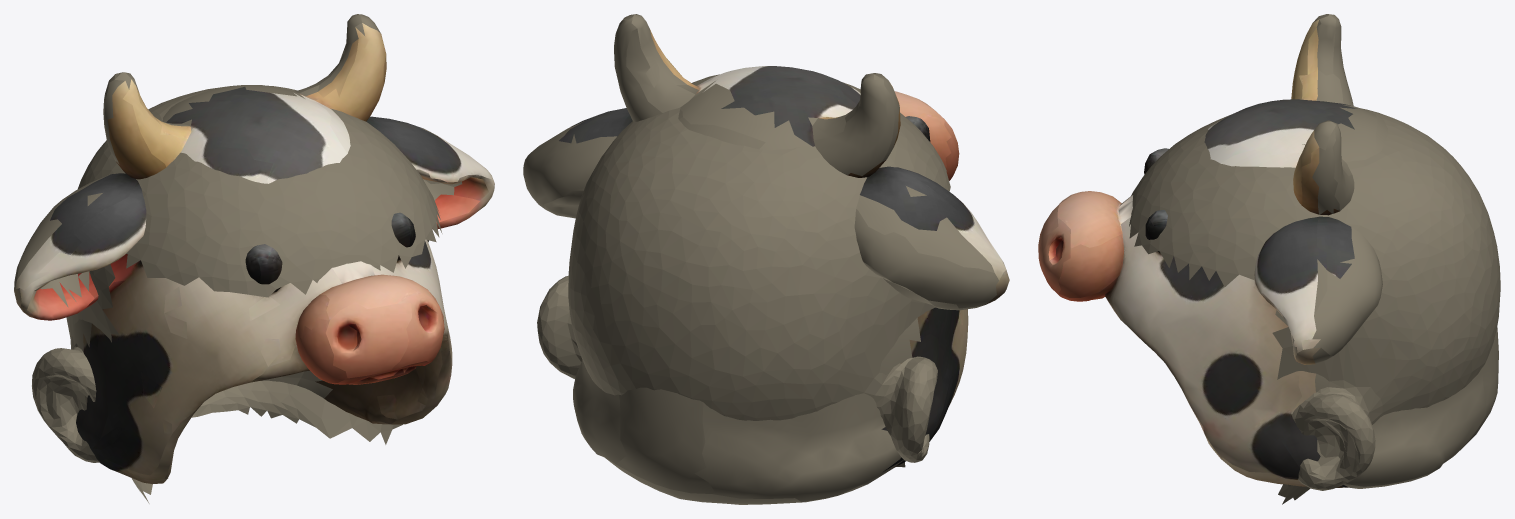
The model's file is cow.glb.
3 renders of one model, left to right at view 1: azimuth 30°, elevation 25°; view 2: azimuth 150°, elevation 25°; view 3: azimuth 270°, elevation 25°, orthographic. The views are drawn at different scales.
Parts seen in each view (by area): view 1: geometry_0, HoodAnatomicalLining; view 2: HoodAnatomicalLining, geometry_0; view 3: geometry_0, HoodAnatomicalLining.
Boxes of the visible parts, x1,y1,x2,y2 form: geometry_0: [14, 14, 494, 484]; HoodAnatomicalLining: [32, 85, 442, 503]; HoodAnatomicalLining: [537, 74, 950, 467]; geometry_0: [523, 14, 1009, 504]; geometry_0: [1038, 14, 1498, 488]; HoodAnatomicalLining: [1129, 108, 1500, 504].
Size of the model in its own units: 0.5847 by 0.4853 by 0.5313.
Materials: 2 (1 with a texture image).
